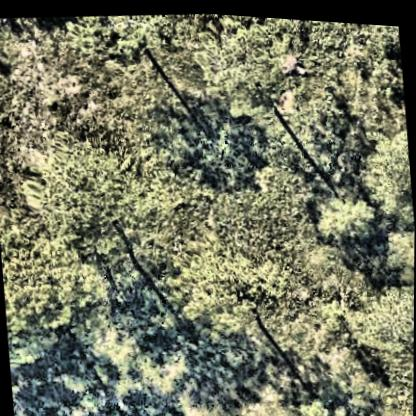tree-top: (23, 123, 149, 259), (0, 223, 111, 356), (195, 10, 305, 124), (175, 221, 284, 331), (357, 117, 415, 224), (342, 277, 414, 356), (313, 182, 383, 248)
